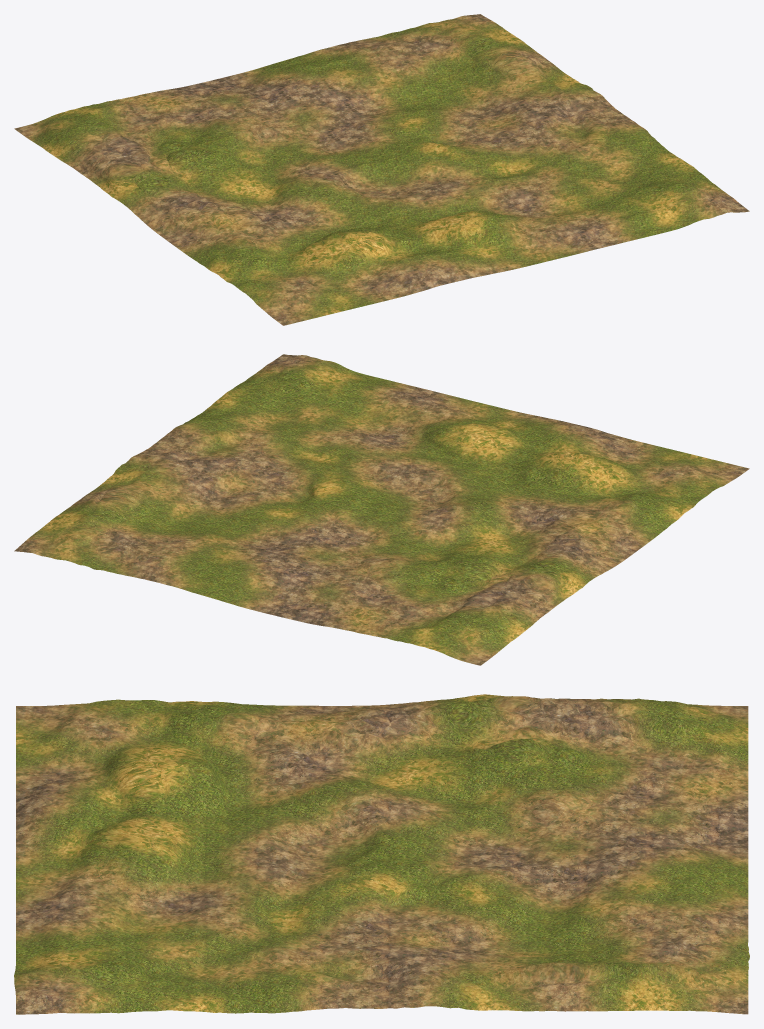
File: terrain.obj
3 renders of one model, top to bottom at view 1: azimuth 30°, elevation 25°; view 2: azimuth 150°, elevation 25°; view 3: azimuth 270°, elevation 25°, orthographic. The views are drawn at different scales.
Parts seen in each view (by area): view 1: pPlane1; view 2: pPlane1; view 3: pPlane1.
Boxes of the visible parts, bbox=[...] form: pPlane1: bbox=[14, 14, 749, 325]; pPlane1: bbox=[14, 354, 749, 665]; pPlane1: bbox=[14, 694, 749, 1014].
Bounding box in the file's own units: 61.18 × 2.28 × 60.93.
1 material, 1 textured.
